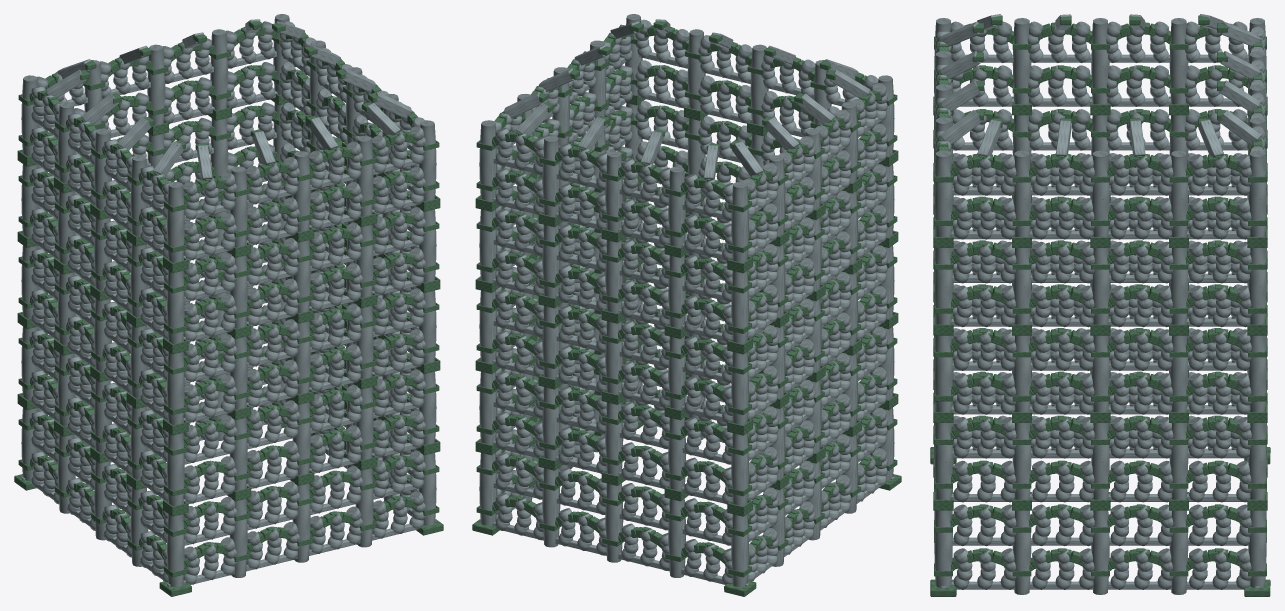
3 views of the same model, side by side, from view 1: azimuth 30°, elevation 25°; view 2: azimuth 150°, elevation 25°; view 3: azimuth 270°, elevation 25° (orthographic). The views are drawn at different scales.
Parts seen in each view (by area): view 1: Tier 4 side 0 post 0, Tier 4 side 2 post 1, Tier 0 side 0 post 0, Tier 2 side 0 post 0, Tier 1 side 0 post 0, Tier 3 side 0 post 0, Tier 4 side 2 post 2, Tier 4 side 1 post 0, Tier 4 side 0 post 2, Tier 4 side 0 post 1, Tier 4 side 0 post 3, Tier 0 side 0 post 3 (+37 smaller); view 2: Tier 4 side 3 post 0, Tier 4 side 2 post 0, Tier 4 side 2 post 2, Tier 4 side 2 post 3, Tier 4 side 2 post 1, Tier 0 side 3 post 0, Tier 0 side 2 post 2, Tier 1 side 3 post 0, Tier 0 side 2 post 1, Tier 2 side 3 post 0, Tier 3 side 3 post 0, Tier 0 side 2 post 3 (+25 smaller); view 3: Tier 4 side 1 post 0, Tier 4 side 2 post 0, Tier 4 side 3 post 2, Tier 4 side 3 post 1, Tier 4 side 3 post 3, Tier 4 side 1 post 2, Tier 4 side 1 post 1, Tier 4 side 1 post 3, Tier 3 side 1 post 0, Tier 0 side 1 post 2, Tier 1 side 1 post 0, Tier 2 side 1 post 0 (+31 smaller).
Boxes of the visible parts, x1,y1,x2,y2 form: Tier 4 side 0 post 0: (167,182,184,262); Tier 4 side 2 post 1: (210,29,228,110); Tier 0 side 0 post 0: (167,514,184,587); Tier 2 side 0 post 0: (167,352,184,425); Tier 1 side 0 post 0: (167,433,184,506); Tier 3 side 0 post 0: (167,270,184,343); Tier 4 side 2 post 2: (147,44,165,125); Tier 4 side 1 post 0: (418,120,436,201); Tier 4 side 0 post 2: (292,151,310,231); Tier 4 side 0 post 1: (229,166,247,247); Tier 4 side 0 post 3: (355,135,373,216); Tier 0 side 0 post 3: (355,468,373,547); Tier 4 side 3 post 0: (731,182,748,262); Tier 4 side 2 post 0: (479,120,497,201); Tier 4 side 2 post 2: (605,151,623,232); Tier 4 side 2 post 3: (668,166,686,247); Tier 4 side 2 post 1: (542,135,560,216); Tier 0 side 3 post 0: (731,514,748,587); Tier 0 side 2 post 2: (605,483,623,562); Tier 1 side 3 post 0: (731,433,748,506); Tier 0 side 2 post 1: (542,468,560,547); Tier 2 side 3 post 0: (731,352,748,425); Tier 3 side 3 post 0: (731,270,748,343); Tier 0 side 2 post 3: (668,499,686,577); Tier 4 side 1 post 0: (934,150,952,236); Tier 4 side 2 post 0: (1248,150,1266,236); Tier 4 side 3 post 2: (1091,18,1109,104); Tier 4 side 3 post 1: (1169,18,1188,104); Tier 4 side 3 post 3: (1012,18,1031,104); Tier 4 side 1 post 2: (1091,150,1109,236); Tier 4 side 1 post 1: (1012,150,1031,236); Tier 4 side 1 post 3: (1169,150,1188,236); Tier 3 side 1 post 0: (934,248,952,324); Tier 0 side 1 post 2: (1091,510,1109,594); Tier 1 side 1 post 0: (934,423,952,499); Tier 2 side 1 post 0: (934,335,952,412).
Bounding box in the file's own units: 1.95 × 2.9 × 1.95.
2 materials, 2 textured.
